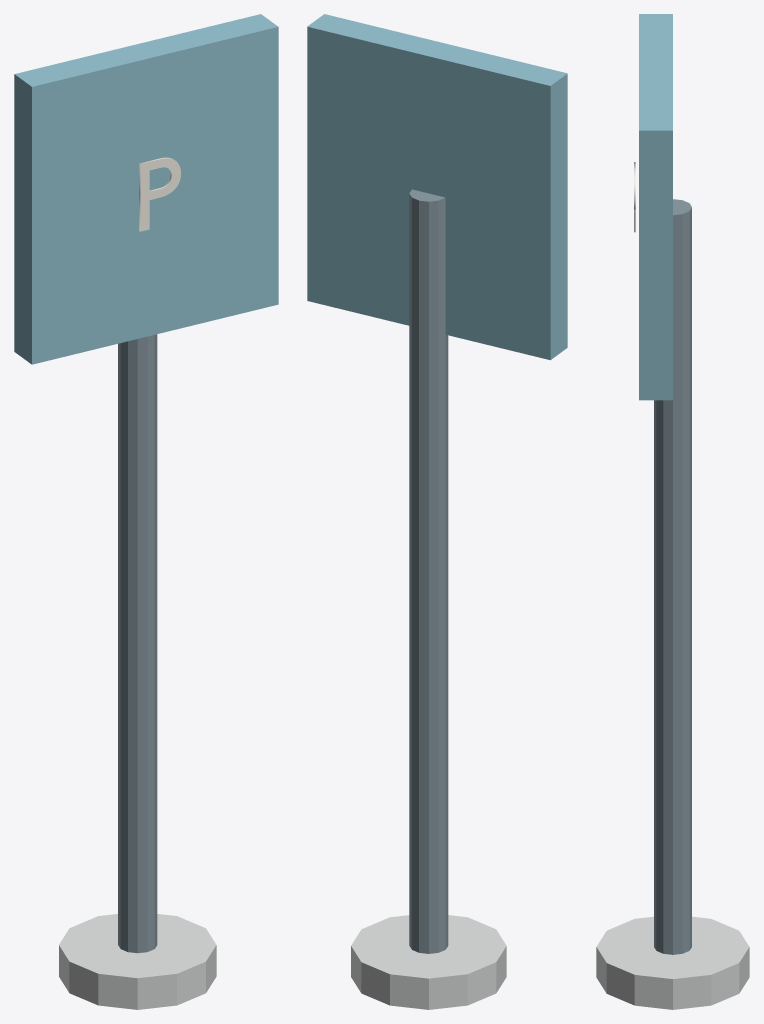
The model's file is parking.glb.
3 renders of one model, left to right at view 1: azimuth 30°, elevation 25°; view 2: azimuth 150°, elevation 25°; view 3: azimuth 270°, elevation 25°, orthographic. The views are drawn at different scales.
Visible parts, largest first — view 1: parking_002, parking_000, parking_001, parking_003; view 2: parking_002, parking_000, parking_001; view 3: parking_000, parking_002, parking_001.
Boxes of the visible parts, bbox=[...] form: parking_002: bbox=[14, 14, 278, 364]; parking_000: bbox=[118, 334, 157, 953]; parking_001: bbox=[59, 914, 216, 1009]; parking_003: bbox=[139, 157, 180, 231]; parking_002: bbox=[307, 14, 567, 360]; parking_000: bbox=[409, 189, 448, 953]; parking_001: bbox=[351, 915, 506, 1009]; parking_000: bbox=[654, 199, 691, 954]; parking_002: bbox=[639, 14, 672, 400]; parking_001: bbox=[596, 916, 749, 1009].
Bounding box in the file's own units: 0.65 × 2.35 × 0.36.
